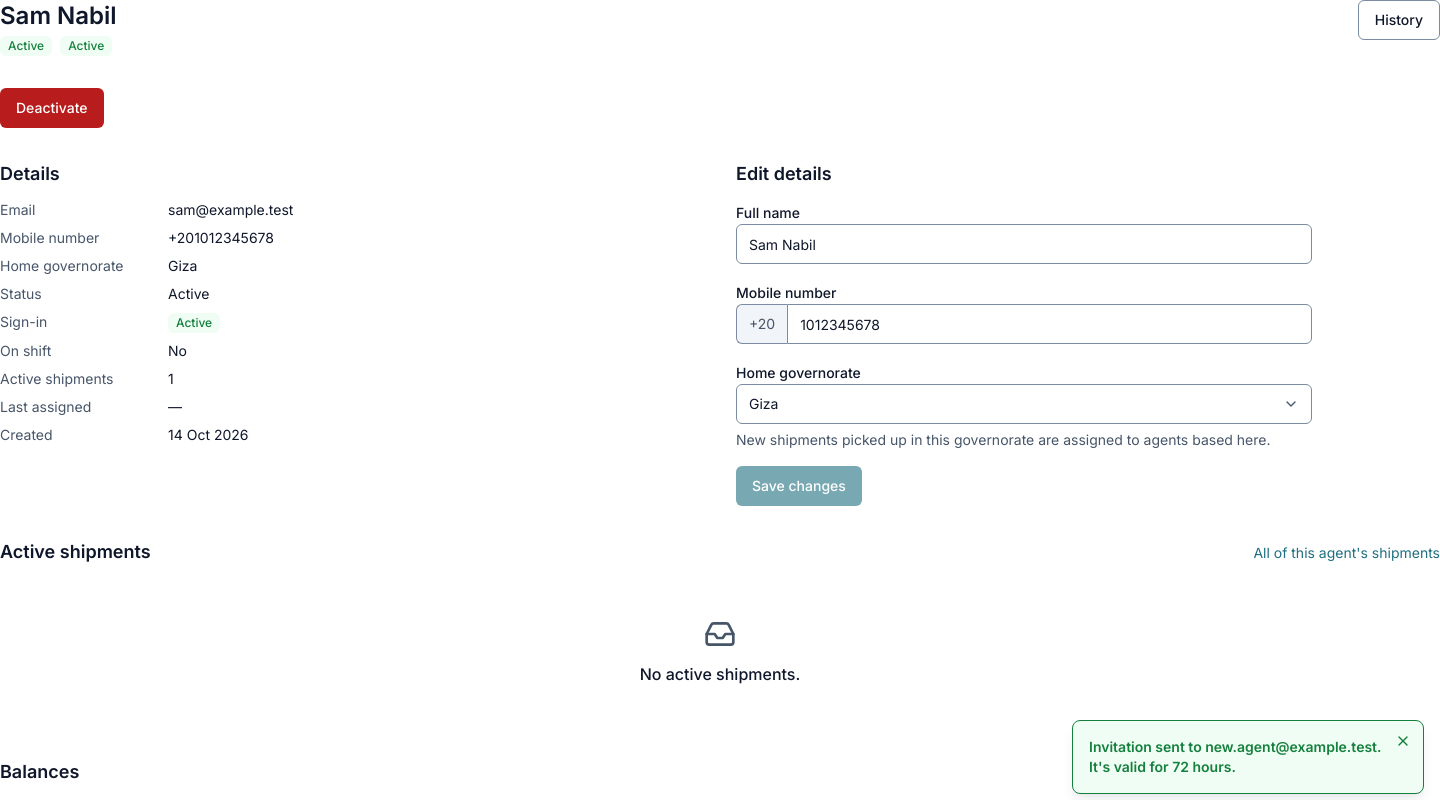
Test: agent (spec 03 AD-11) › deactivate asks first; AGENT_HAS_ACTIVE_SHIPMENTS points to the active shipments
Click the button "Deactivate".
click(52, 108)  # box [0,88,104,128]
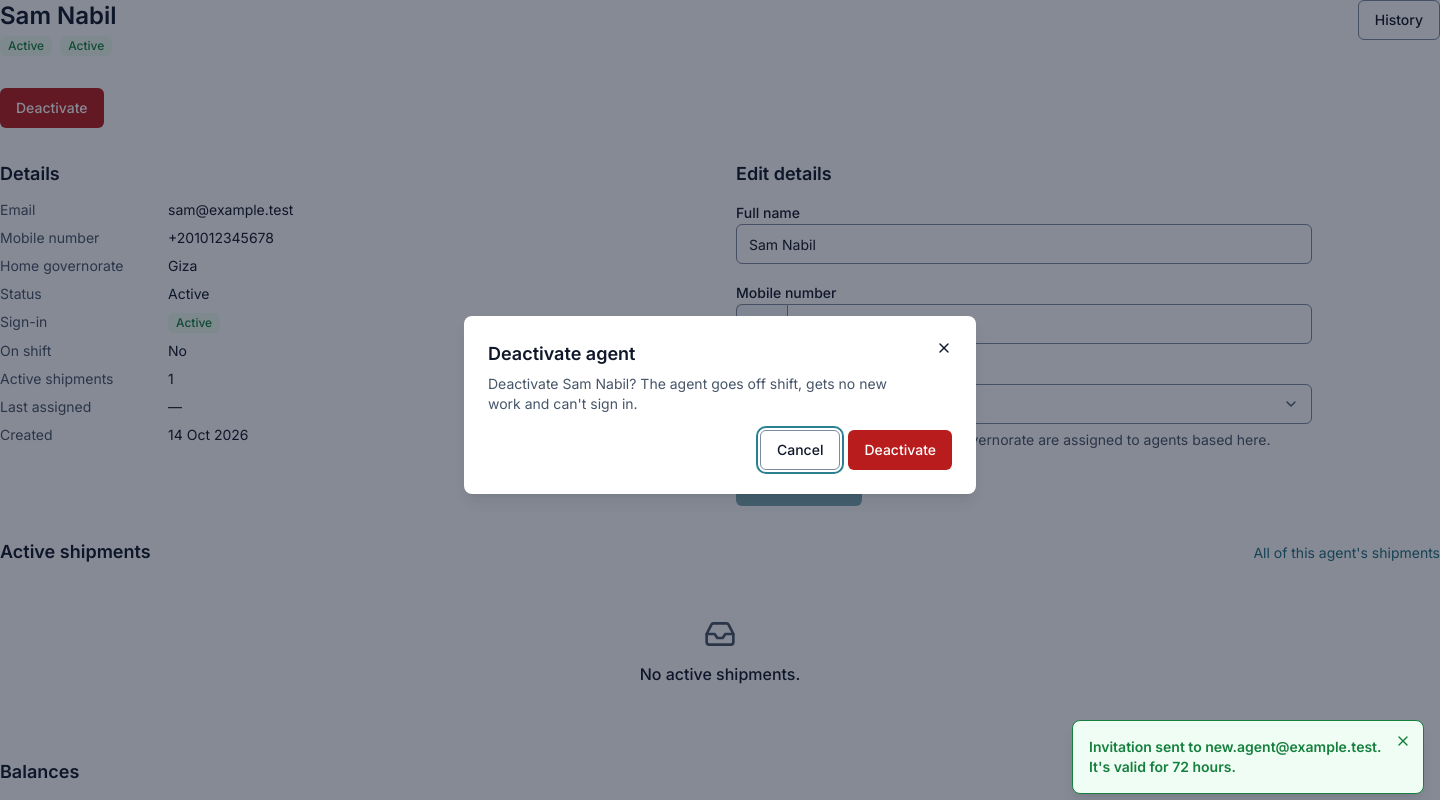
Now the text "Deactivate Sam Nabil? The agent goes off shift, gets no new work and can't sign in." is shown, box [488,375,887,412]
Click the button "Deactivate".
click(900, 450)  # box [848,430,952,470]
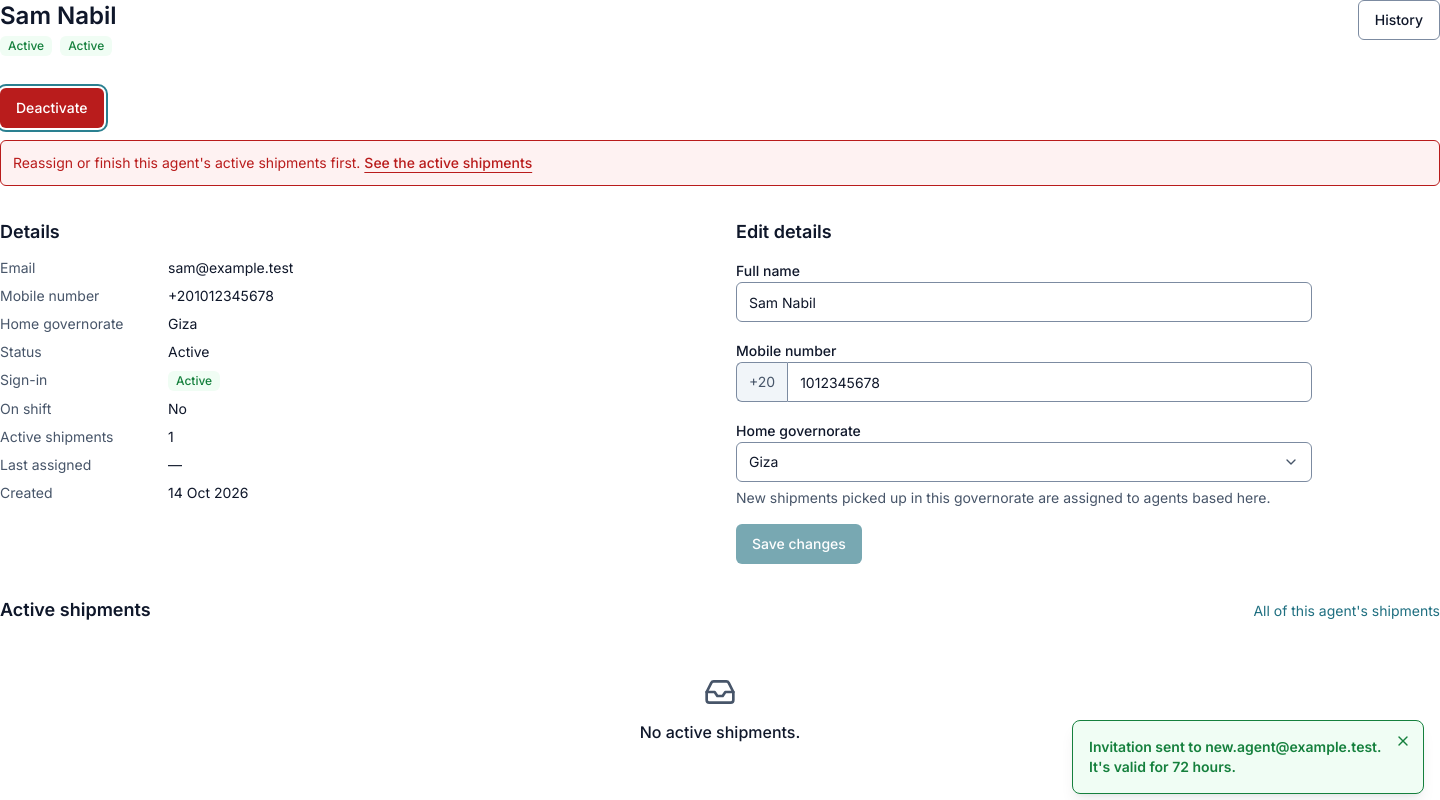
Expected: the element with id "active-shipments" is shown, [0,596,1439,784]
Now the text "Reassign or finish this agent's active shipments first." is shown, box [13,154,360,171]
